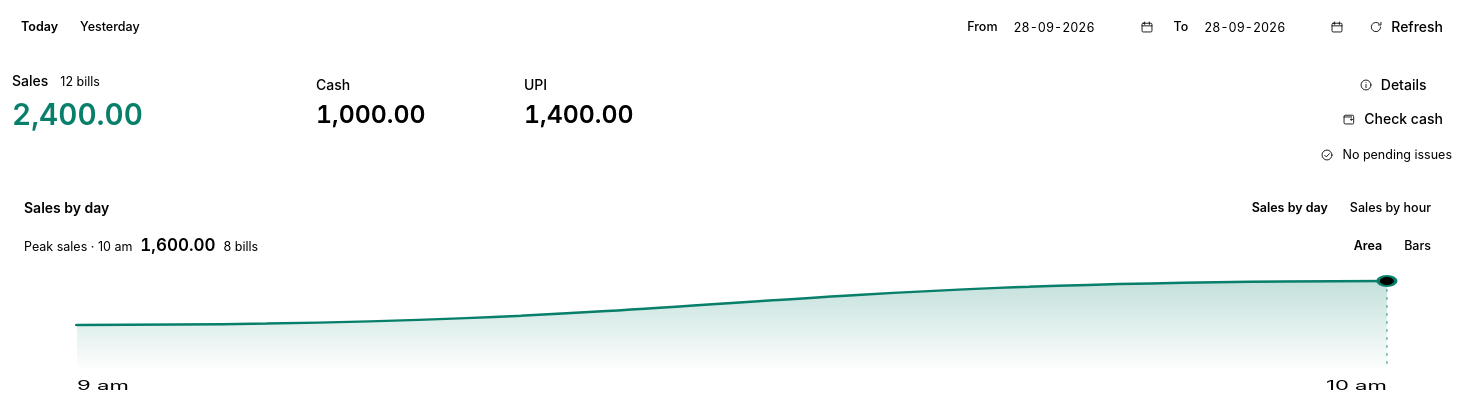
Test: switches daily and hourly trends in one chart area for a longer period
Expected: the heading "Sales by day" is shown, x1=24 y1=197 x2=109 y2=218
Expected: the number of icons with class "mb-trend__plot" is 1, x1=24 y1=269 x2=1440 y2=397
Click the button "Sales by hour".
click(1390, 208)  # box x1=1341 y1=193 x2=1440 y2=223
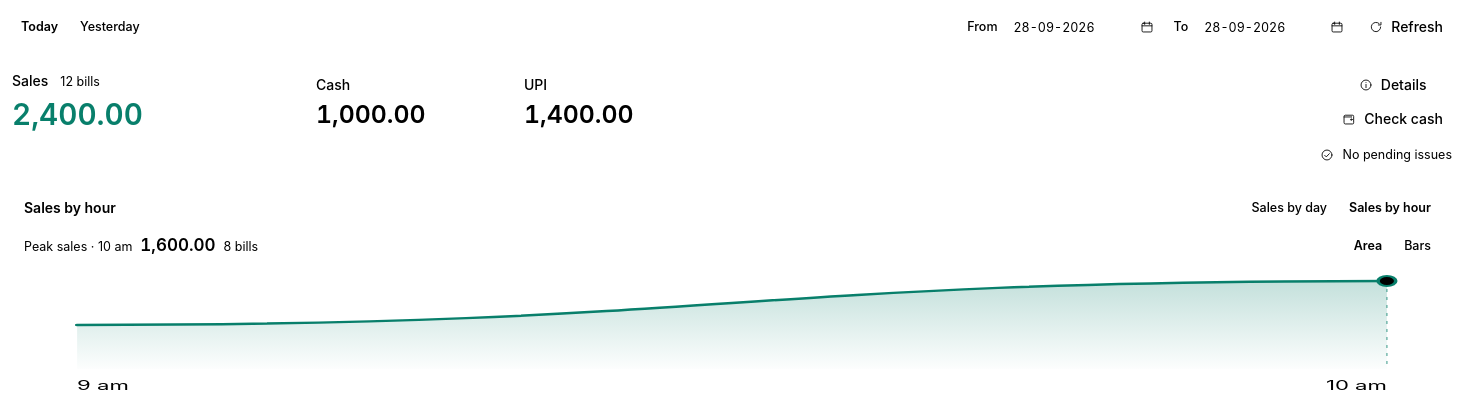
Expected: the number of icons with class "mb-trend__plot" is 1, x1=24 y1=269 x2=1440 y2=397
Now the heading "Sales by hour" is shown, box x1=24 y1=197 x2=116 y2=218
